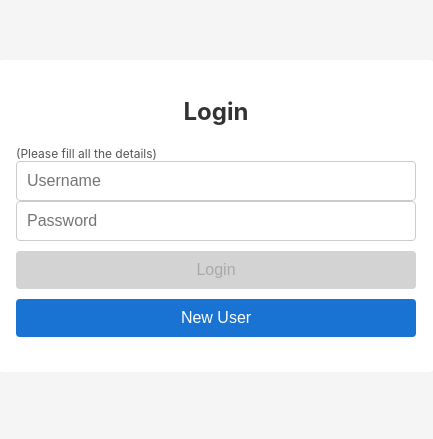
User Registration Successful
Click the button with test id "toggle-user-type" at (216, 318), box [16,298,416,336]
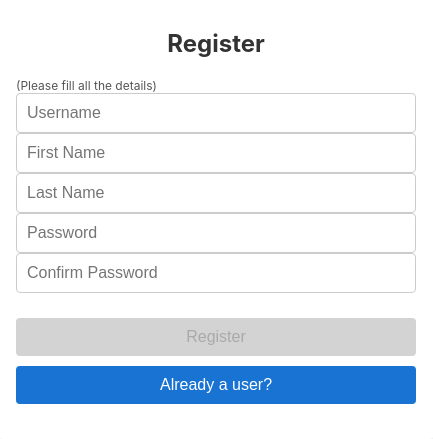
Type "John" into the field with placeholder "Username" at (216, 113), box [16,93,416,133]
Type "John" into the field with placeholder "First Name" at (216, 153), box [16,133,416,173]
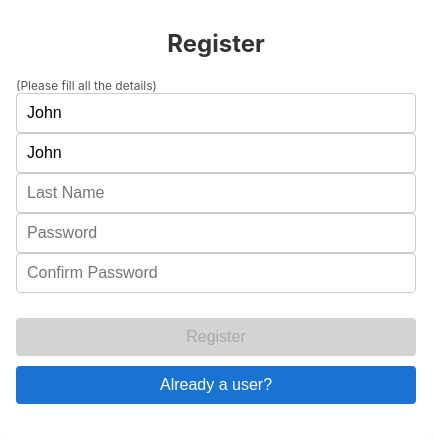
Type "Doe" into the field with placeholder "Last Name" at (216, 193), box [16,173,416,213]
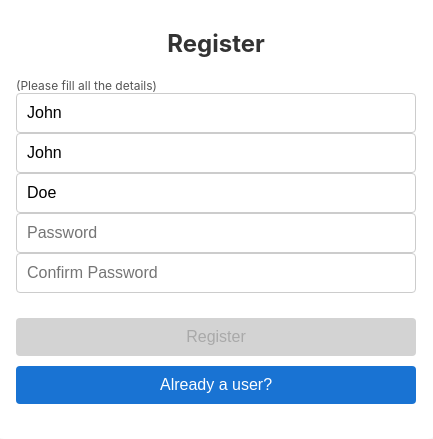
Type "password123" into the password field with placeholder "Password" at (216, 233), box [16,213,416,253]
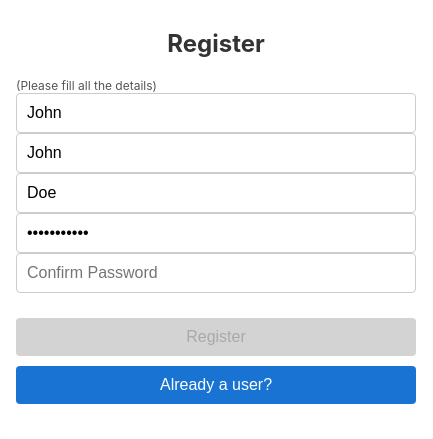
Type "password123" into the password field with placeholder "Confirm Password" at (216, 273), box [16,253,416,293]
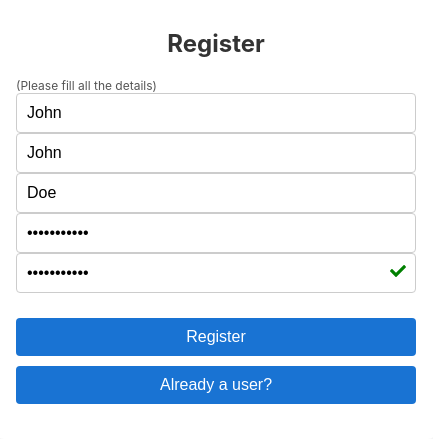
Click the button with test id "login-id" at (216, 337), box [16,318,416,356]
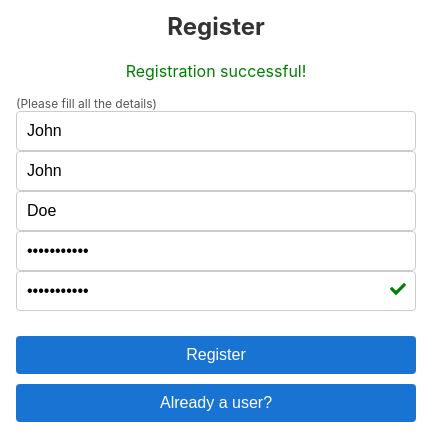
Expected: the text with test id "success-message" reads "Registration successful!", [126,60,306,80]
